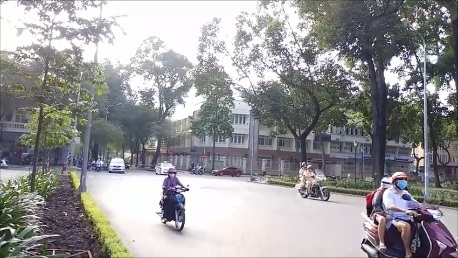police: (294, 158, 337, 205)
